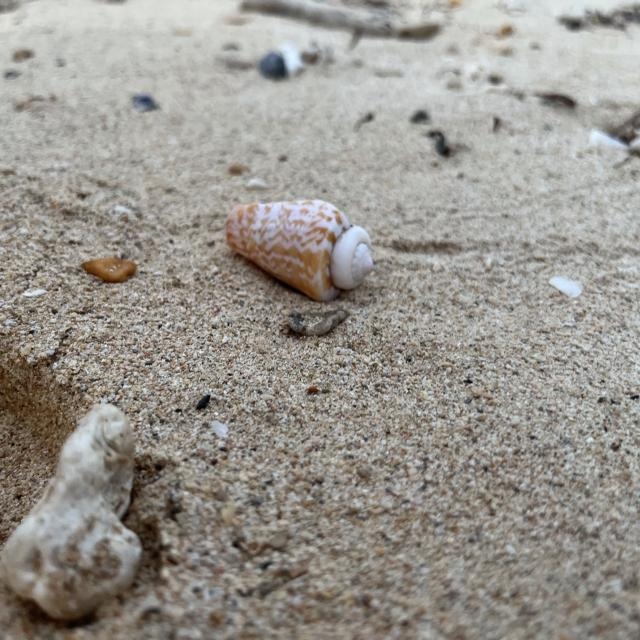coral: (0, 385, 149, 629)
shell: (213, 180, 384, 311)
